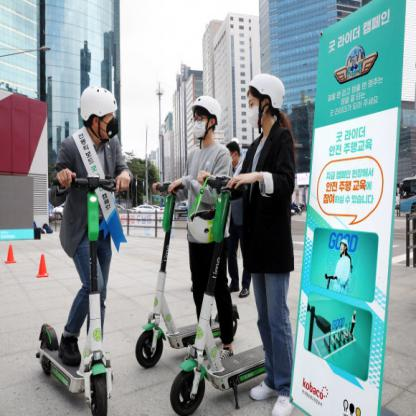scooter: (170, 171, 298, 415), (35, 173, 130, 415), (134, 179, 239, 369)
with helmet: (244, 74, 286, 128), (78, 88, 118, 139), (190, 91, 220, 141)
